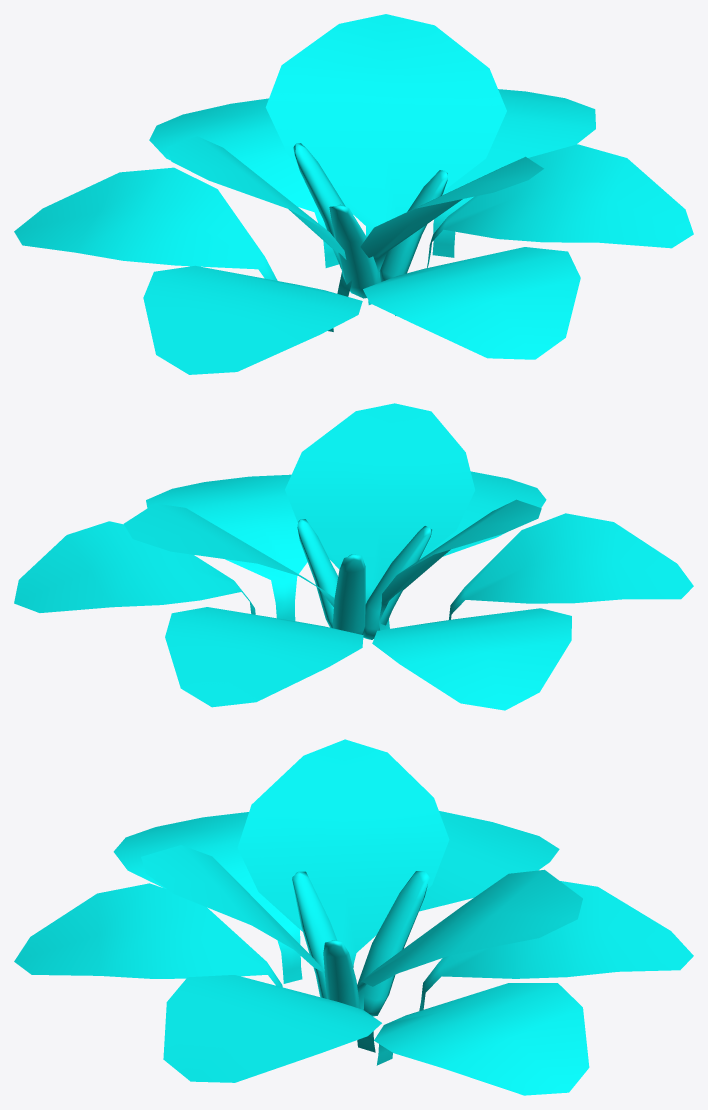
File: Bush_2.fbx
3 views of the same model, one above another, from view 1: azimuth 30°, elevation 25°; view 2: azimuth 150°, elevation 25°; view 3: azimuth 270°, elevation 25° (orthographic). The views are drawn at different scales.
Parts seen in each view (by area): view 1: Bush_2; view 2: Bush_2; view 3: Bush_2.
Boxes of the visible parts, x1,y1,x2,y2 form: Bush_2: (14, 14, 693, 374); Bush_2: (14, 403, 693, 710); Bush_2: (14, 739, 693, 1095).
Size of the model in its own units: 63.13 by 19.28 by 65.19.
